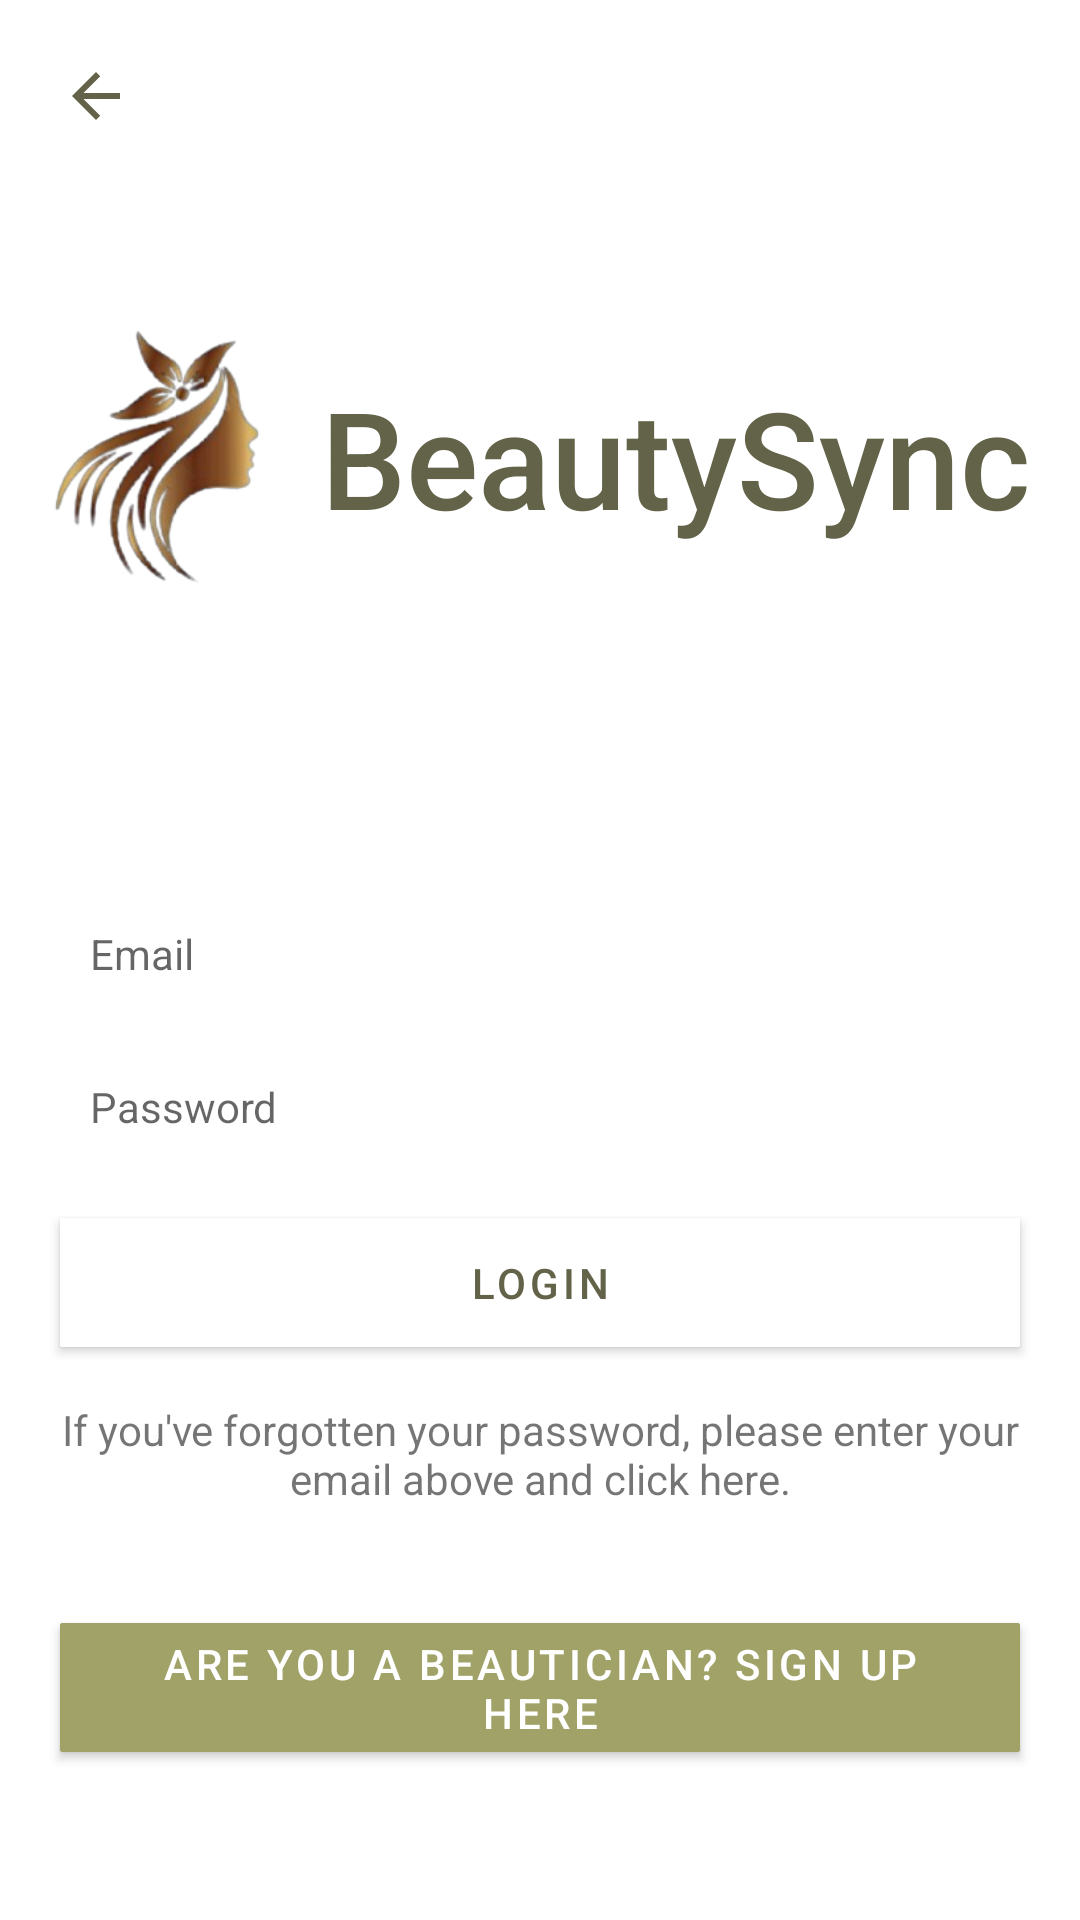

Named icons in this screenshot (1080 × 1920) and their bounding boxes, bbox=[x1, y1, x2, y2]:
Back Arrow: bbox=[72, 72, 120, 120]
